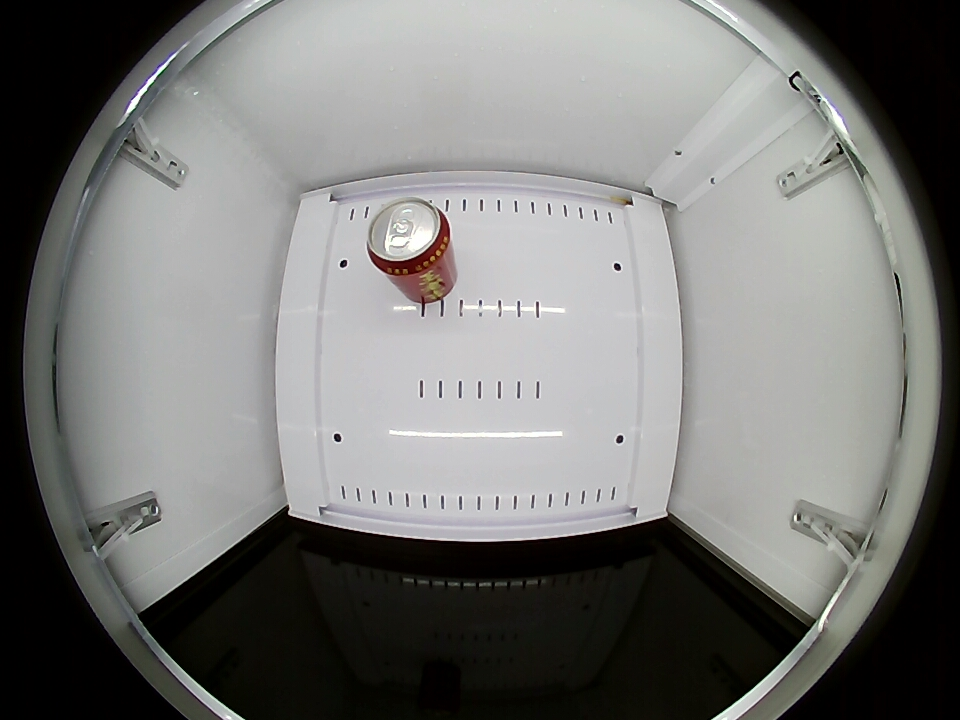wanglaoji-c: (366, 198, 452, 278)
